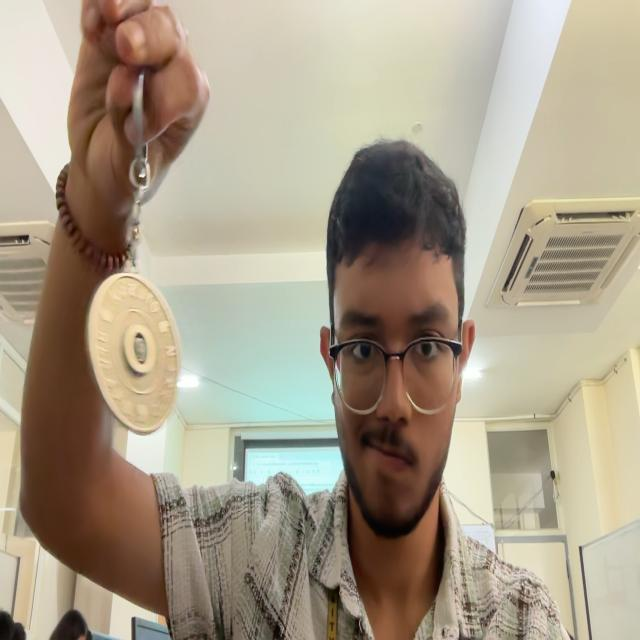dangerous: (86, 71, 181, 434)
